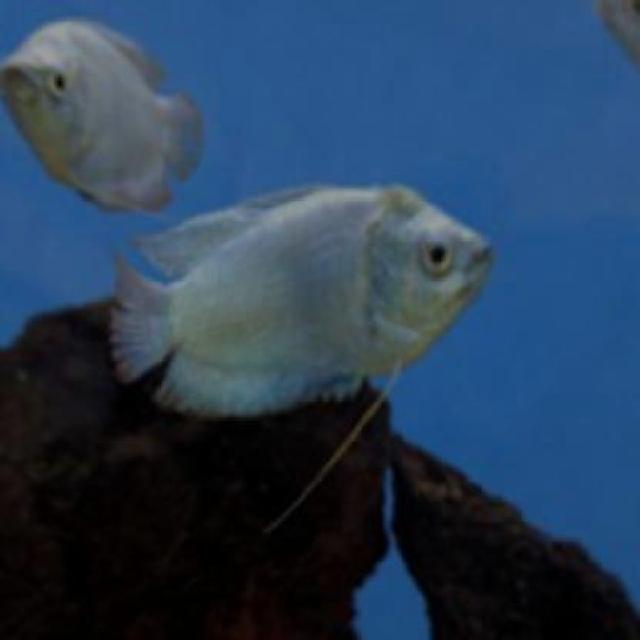Gourami: (111, 176, 492, 412), (0, 14, 205, 218)
